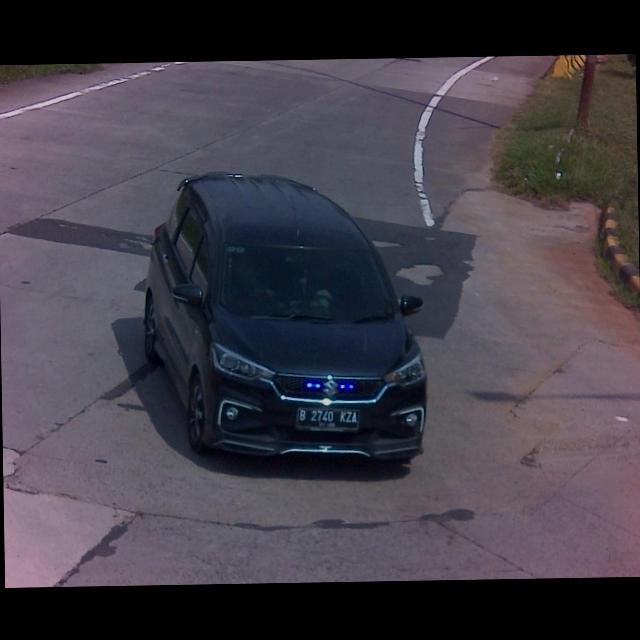plate: (294, 406, 361, 432)
